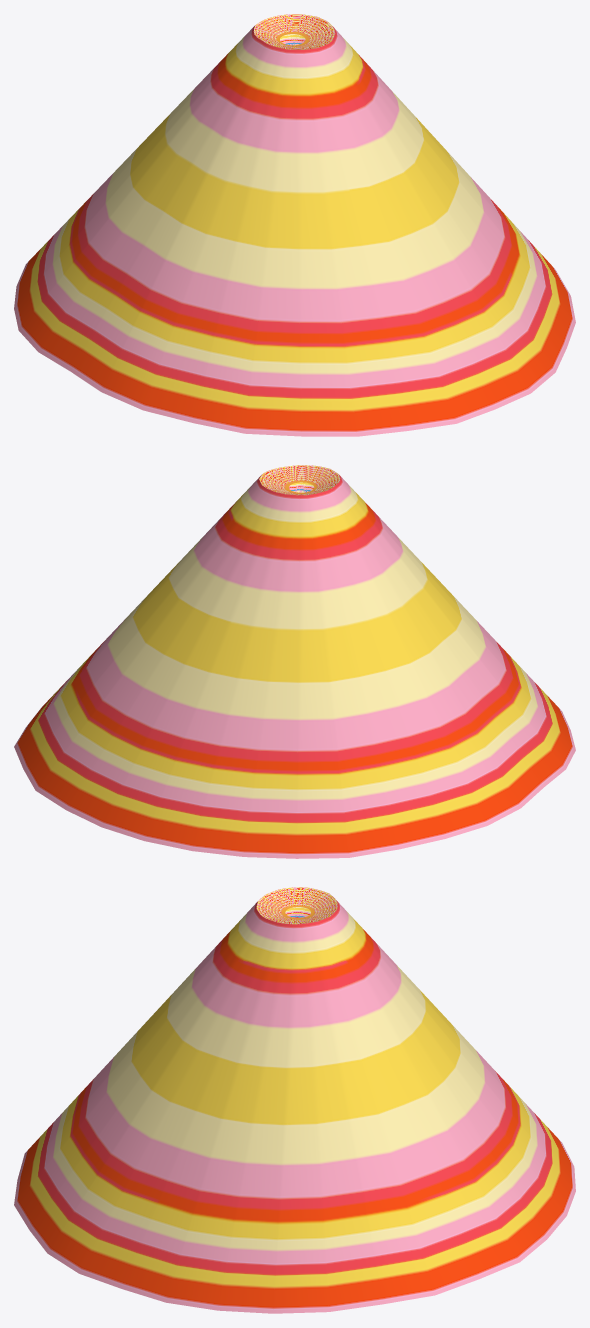
Rendered from M_kaleidoscope.fbx.
3 renders of one model, top to bottom at view 1: azimuth 30°, elevation 25°; view 2: azimuth 150°, elevation 25°; view 3: azimuth 270°, elevation 25°, orthographic. The views are drawn at different scales.
Visible parts, largest first — view 1: Circle.001; view 2: Circle.001; view 3: Circle.001.
Part boxes in pixels (x1,y1,x2,y2): Circle.001: [14, 14, 575, 436]; Circle.001: [14, 465, 575, 858]; Circle.001: [14, 887, 575, 1313].
Size of the model in its own units: 85483 by 50863 by 84670.
